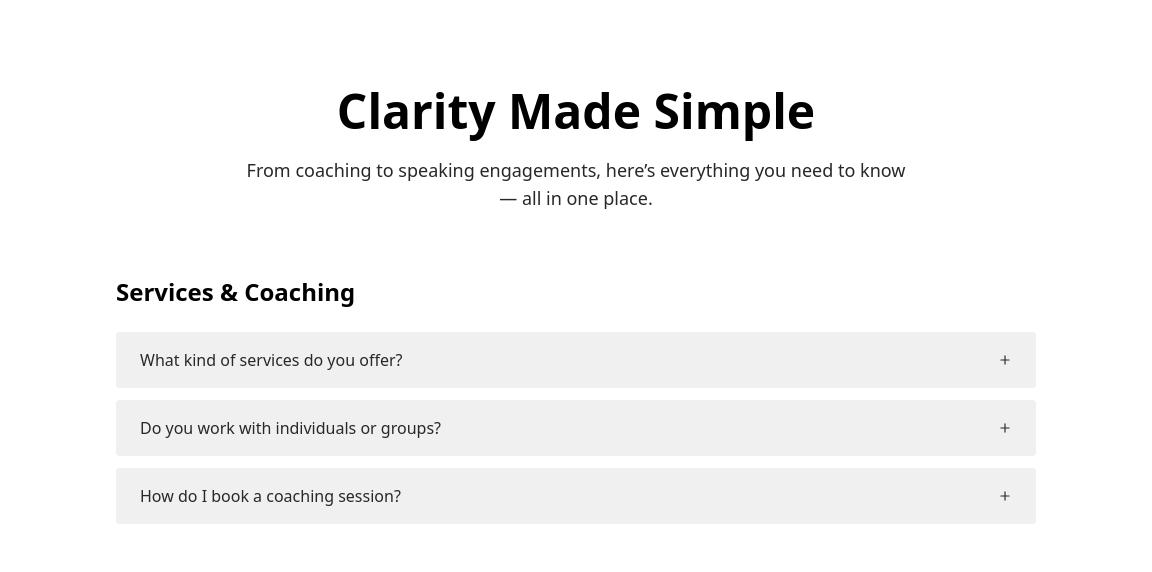
Test: FAQ Page › shows the answer after clicking the toggle button
The width and height of the screenshot is (1152, 572).
(page scrolled)
Click the button "What kind of services do you offer?". click: (271, 360)
box: [116,332,1036,388]
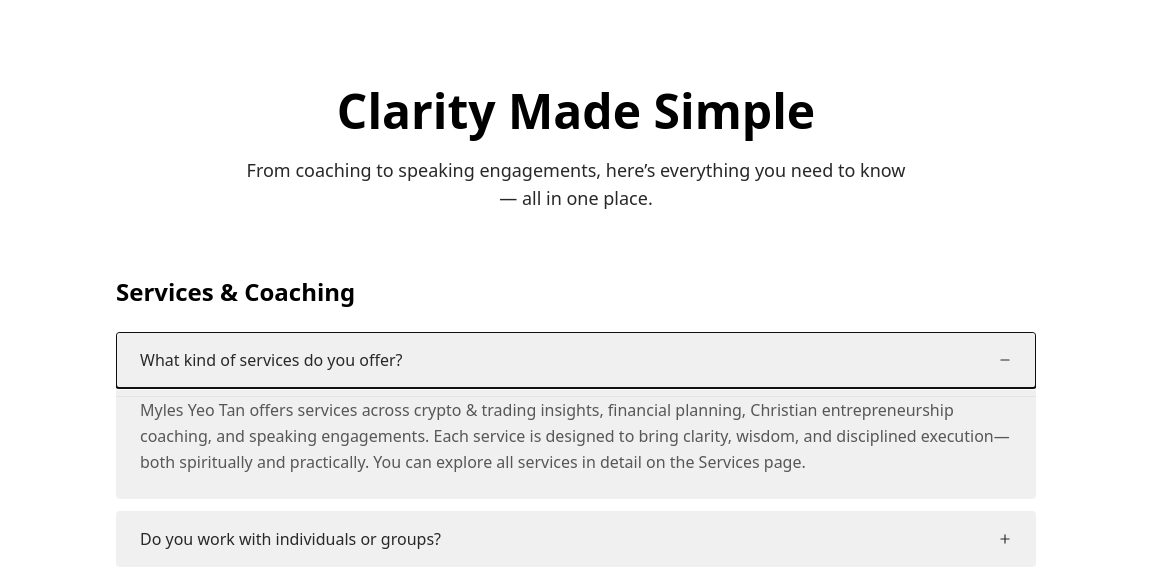
Check: the text "crypto & trading insights" is shown, box [140,399,1010,473]
